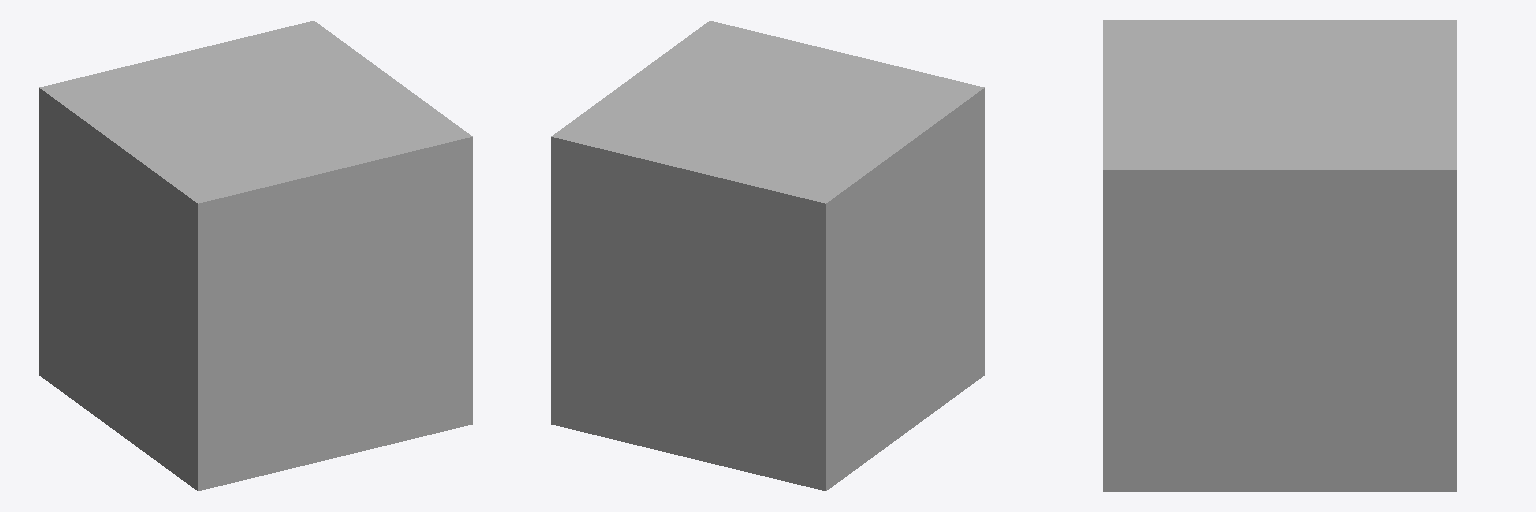
The robot description file, URDF, robot "root":
<robot name="root">
  <link name="link_ycb~cubei12_convex_piece_0">
    <inertial>
      <origin xyz="0 0 0" rpy="0 0 0"/>
      <mass value="6.10E-02"/>
      <inertia ixx="6.25E-06" ixy="-3.05E-14" ixz="3.05E-14" iyy="6.25E-06" iyz="6.10E-14" izz="6.25E-06"/>
    </inertial>
    <visual>
      <origin xyz="0 0 0" rpy="0 0 0"/>
      <geometry>
        <mesh filename="ycb~cubei12_convex_piece_0.obj" scale="1.0000E+00 1.0000E+00 1.0000E+00"/>
      </geometry>
      <material name="">
        <color rgba="7.50E-01 7.50E-01 7.50E-01 1"/>
      </material>
    </visual>
    <collision>
      <origin xyz="0 0 0" rpy="0 0 0"/>
      <geometry>
        <mesh filename="ycb~cubei12_convex_piece_0.obj" scale="1.0000E+00 1.0000E+00 1.0000E+00"/>
      </geometry>
    </collision>
  </link>
</robot>

--- What the picture shows (computed from the rendered views, not written in the file) ---
3 views of the same robot in one strip: view 1: azimuth 30°, elevation 25°; view 2: azimuth 150°, elevation 25°; view 3: azimuth 270°, elevation 25° (orthographic).
Model root with 1 links and 0 joints (none), rooted at link_ycb~cubei12_convex_piece_0, posed all joints at 0.
Links seen in each view (by area): view 1: link_ycb~cubei12_convex_piece_0; view 2: link_ycb~cubei12_convex_piece_0; view 3: link_ycb~cubei12_convex_piece_0.
Link boxes in pixels (bbox=[...]): link_ycb~cubei12_convex_piece_0: bbox=[39, 21, 472, 490]; link_ycb~cubei12_convex_piece_0: bbox=[551, 21, 984, 490]; link_ycb~cubei12_convex_piece_0: bbox=[1103, 20, 1456, 491].
Size in the robot's own frame: 0.0248 by 0.0248 by 0.0248 metres.
Meshes: 1 distinct files referenced, 1 mesh visuals loaded (1 OBJ).